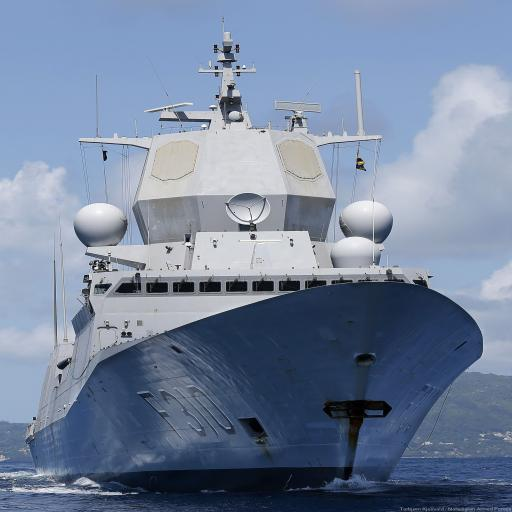Fragata: (1, 10, 336, 494)
